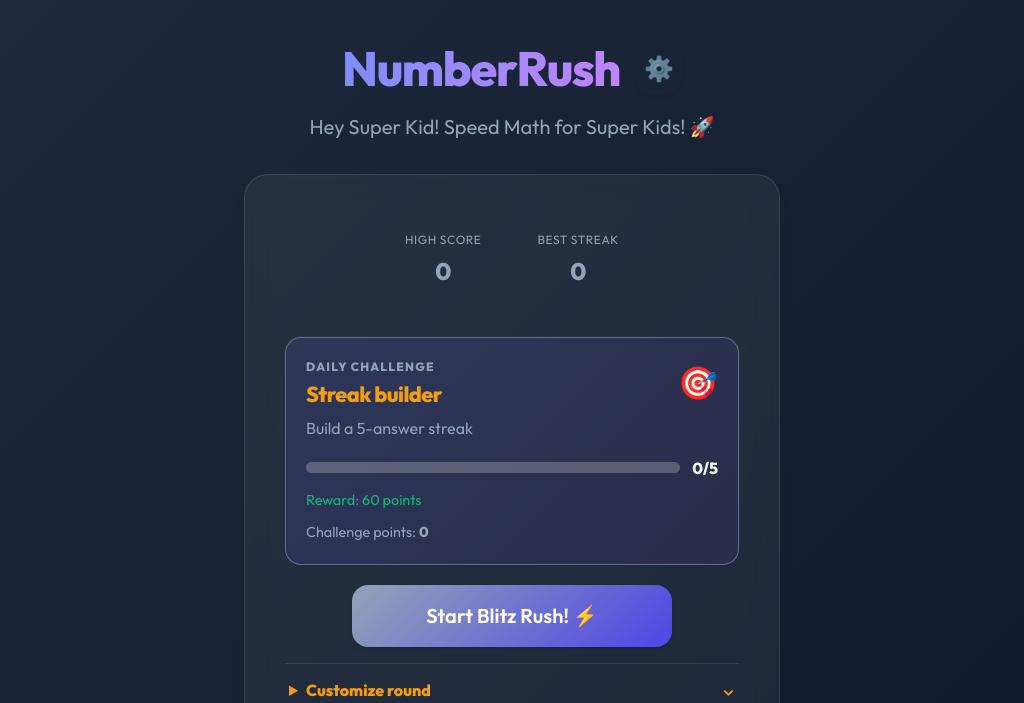
App keyboard gameplay › accepts digits and backspace from the keyboard during a round
Click the button "Start Blitz Rush! ⚡" at [512, 616], box [352,585,672,647]
(page scrolled)
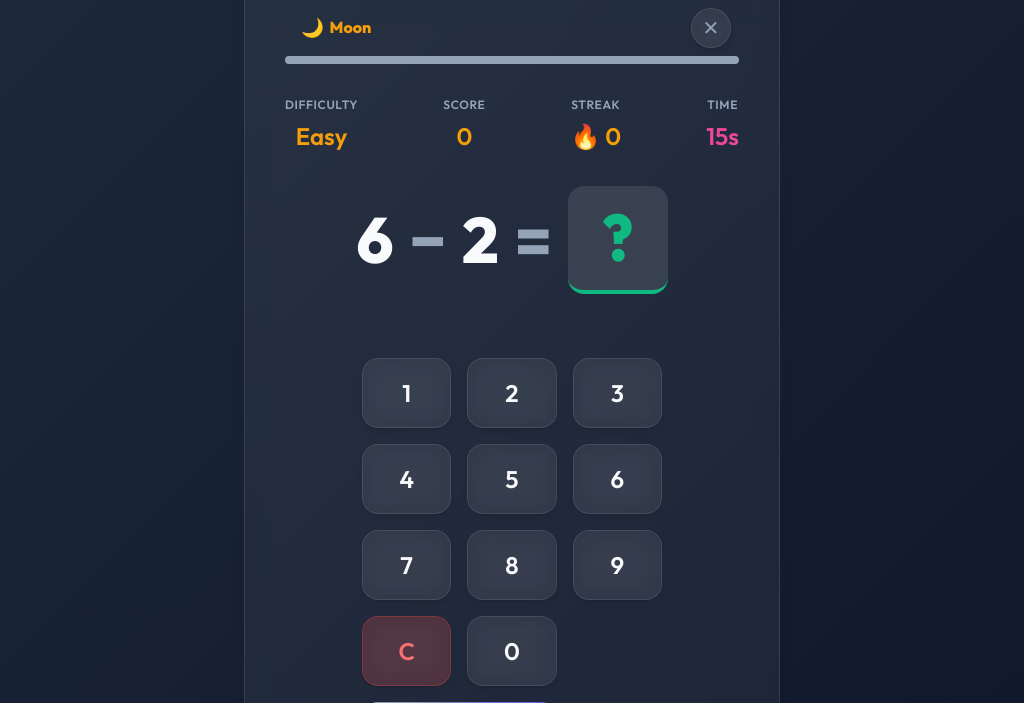
Press 1
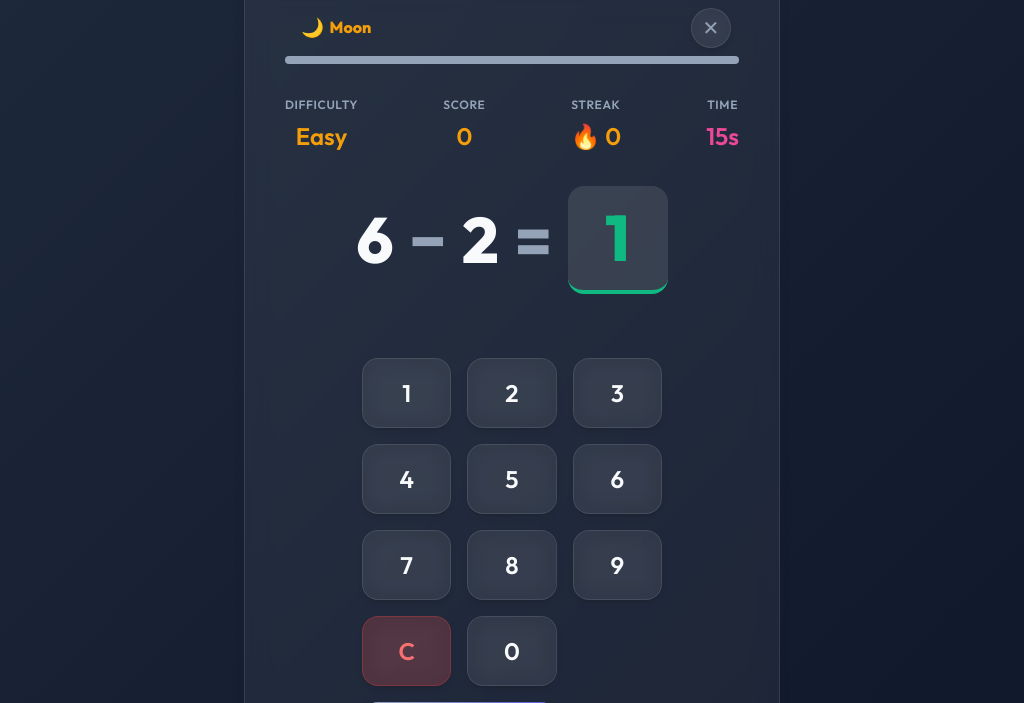
Now the element named "Your current answer is 1" is shown, box [285,186,739,294]
Press Backspace
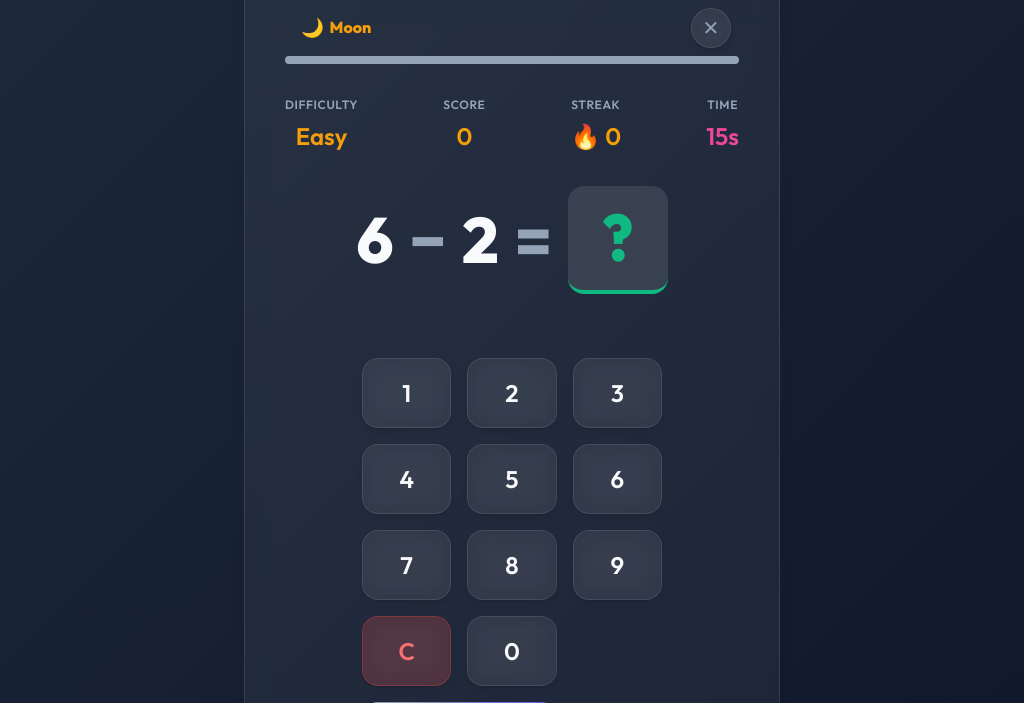
Now the element named "Your current answer is not entered" is shown, box [285,186,739,294]
